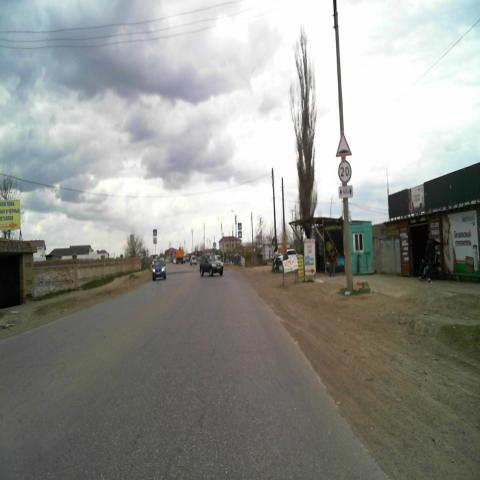8_2_1: (338, 186, 353, 198)
